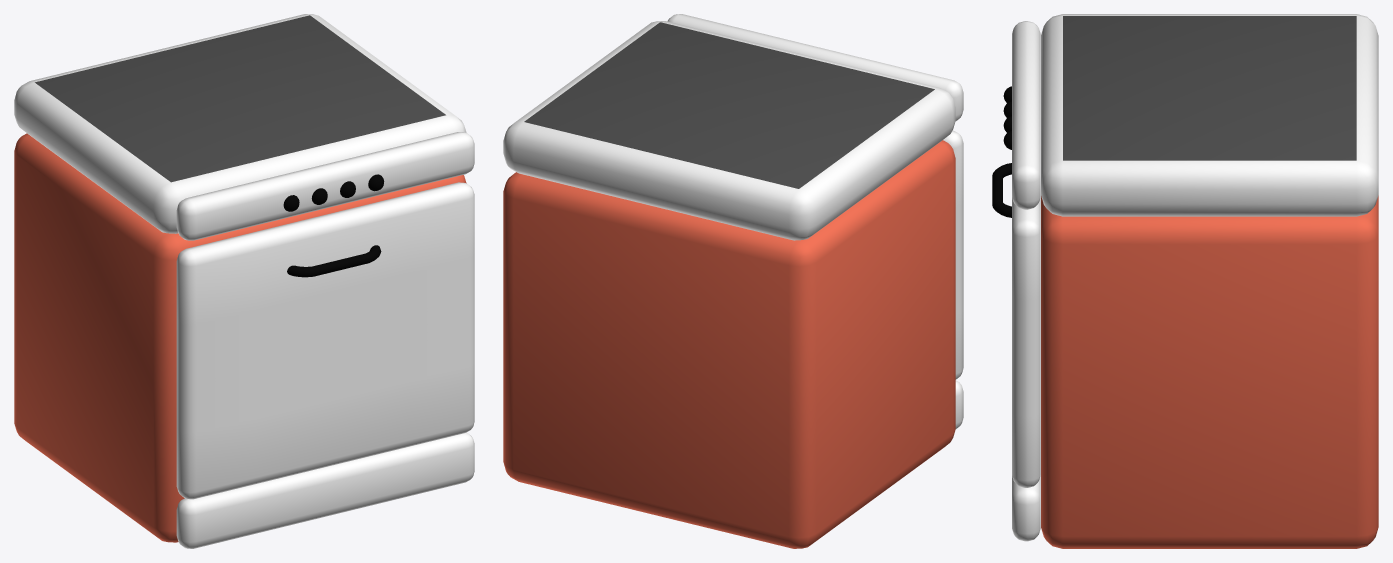
File: oven.obj
The picture shows the model from 3 angles, left to right: view 1: azimuth 30°, elevation 25°; view 2: azimuth 150°, elevation 25°; view 3: azimuth 270°, elevation 25°; orthographic projection. The views are drawn at different scales.
Visible parts, largest first — view 1: door, body, top.002; view 2: body, top.002, door; view 3: body, top.002, door.
Boxes of the visible parts, box(x1,y1,x2,y2) form: door: box(176, 182, 474, 499); body: box(14, 133, 474, 548); top.002: box(14, 14, 474, 240); body: box(503, 140, 963, 548); top.002: box(503, 14, 963, 240); door: box(943, 130, 963, 379); body: box(1012, 195, 1378, 548); top.002: box(1003, 14, 1378, 216); door: box(992, 163, 1040, 487).
Bounding box in the file's own units: 0.6221 × 0.6869 × 0.6224.
